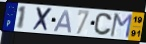1: (16, 5, 27, 30)
7: (76, 9, 92, 36)
A: (53, 9, 73, 34)
C: (93, 13, 113, 37)
M: (109, 13, 134, 39)
X: (32, 7, 54, 33)
